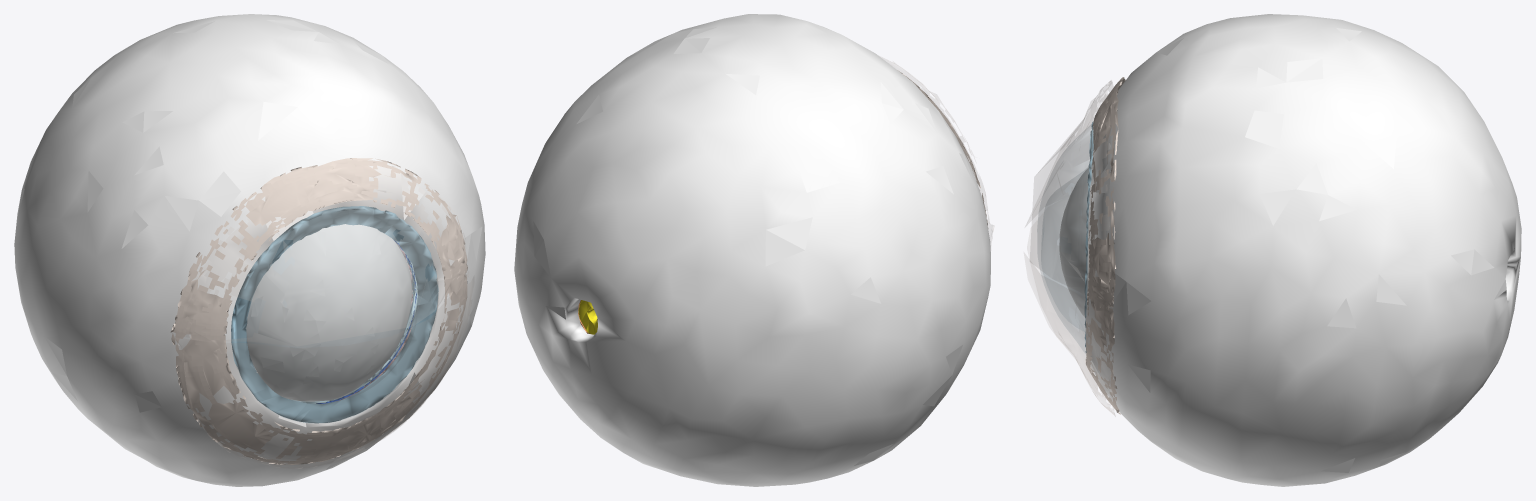
The model's file is 3d-vh-f-eye-r.glb.
3 views of the same model, side by side, from view 1: azimuth 30°, elevation 25°; view 2: azimuth 150°, elevation 25°; view 3: azimuth 270°, elevation 25° (orthographic).
Parts seen in each view (by area): view 1: VH_F_sclera_R, VH_F_cornea_R, VH_F_palpebral_conjunctiva_of_right_upper_eyelid, VH_F_palpebral_conjunctiva_of_right_lower_eyelid, VH_F_bulbar_conjunctiva_R, VH_F_aqueous_humor_R, VH_F_corneo_scleral_junction_R, VH_F_trabecular_meshwork_R; view 2: VH_F_sclera_R, VH_F_palpebral_conjunctiva_of_right_upper_eyelid; view 3: VH_F_sclera_R, VH_F_palpebral_conjunctiva_of_right_upper_eyelid, VH_F_cornea_R, VH_F_bulbar_conjunctiva_R, VH_F_palpebral_conjunctiva_of_right_lower_eyelid, VH_F_aqueous_humor_R, VH_F_corneo_scleral_junction_R.
Boxes of the visible parts, left/top/right/bottom form: VH_F_sclera_R: left=14, top=14, right=485, bottom=486; VH_F_cornea_R: left=232, top=208, right=438, bottom=422; VH_F_palpebral_conjunctiva_of_right_upper_eyelid: left=178, top=162, right=468, bottom=345; VH_F_palpebral_conjunctiva_of_right_lower_eyelid: left=176, top=277, right=473, bottom=467; VH_F_bulbar_conjunctiva_R: left=170, top=158, right=467, bottom=464; VH_F_aqueous_humor_R: left=246, top=224, right=412, bottom=401; VH_F_corneo_scleral_junction_R: left=231, top=206, right=438, bottom=423; VH_F_trabecular_meshwork_R: left=291, top=242, right=417, bottom=403; VH_F_sclera_R: left=514, top=14, right=990, bottom=486; VH_F_palpebral_conjunctiva_of_right_upper_eyelid: left=880, top=56, right=989, bottom=222; VH_F_sclera_R: left=1085, top=14, right=1521, bottom=486; VH_F_palpebral_conjunctiva_of_right_upper_eyelid: left=1025, top=80, right=1113, bottom=307; VH_F_cornea_R: left=1037, top=125, right=1092, bottom=353; VH_F_bulbar_conjunctiva_R: left=1085, top=77, right=1125, bottom=414; VH_F_palpebral_conjunctiva_of_right_lower_eyelid: left=1024, top=220, right=1115, bottom=416; VH_F_aqueous_humor_R: left=1059, top=168, right=1088, bottom=317; VH_F_corneo_scleral_junction_R: left=1084, top=121, right=1093, bottom=352.
Size of the model in its own units: 0.0245 by 0.0244 by 0.0257.
